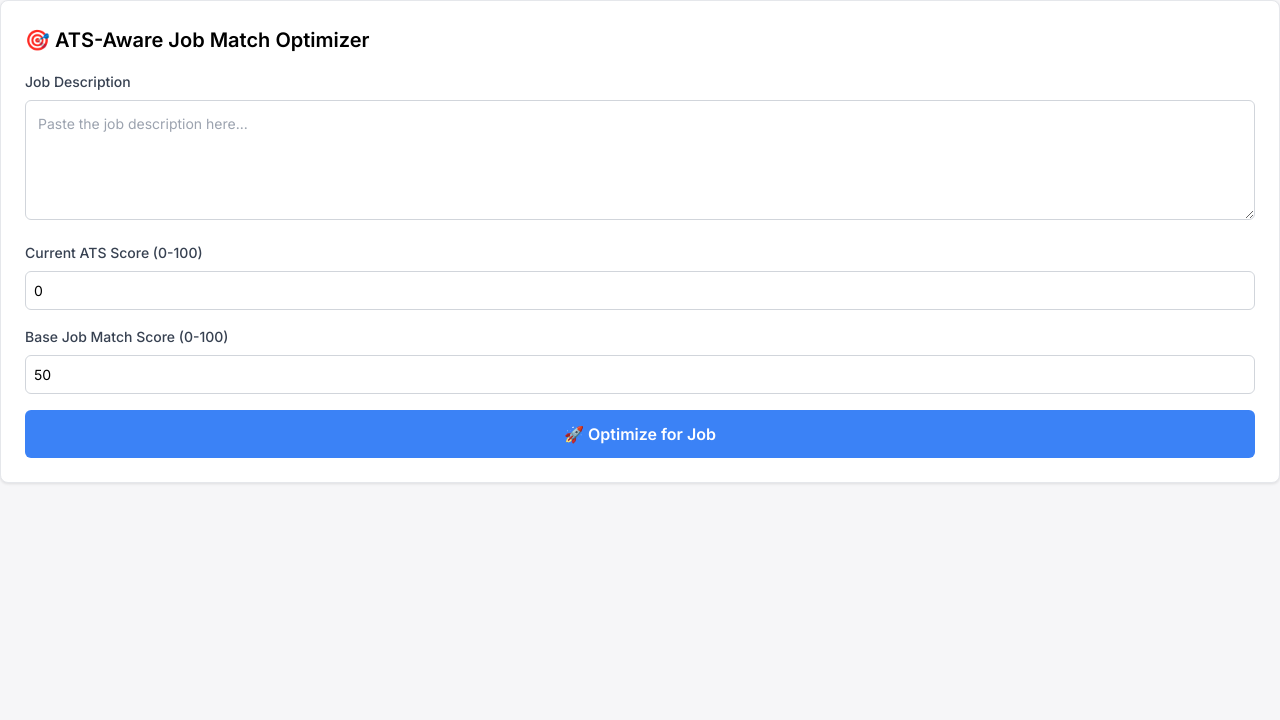
it: ATSOptimizerCard › should show error when trying to optimize without job description
The image size is (1280, 720).
Note: Click the button
What coordinates should you click on to do the following:
click the button "🚀 Optimize for Job"
I would click on:
 (640, 434)
Its box is x1=25 y1=410 x2=1255 y2=458.
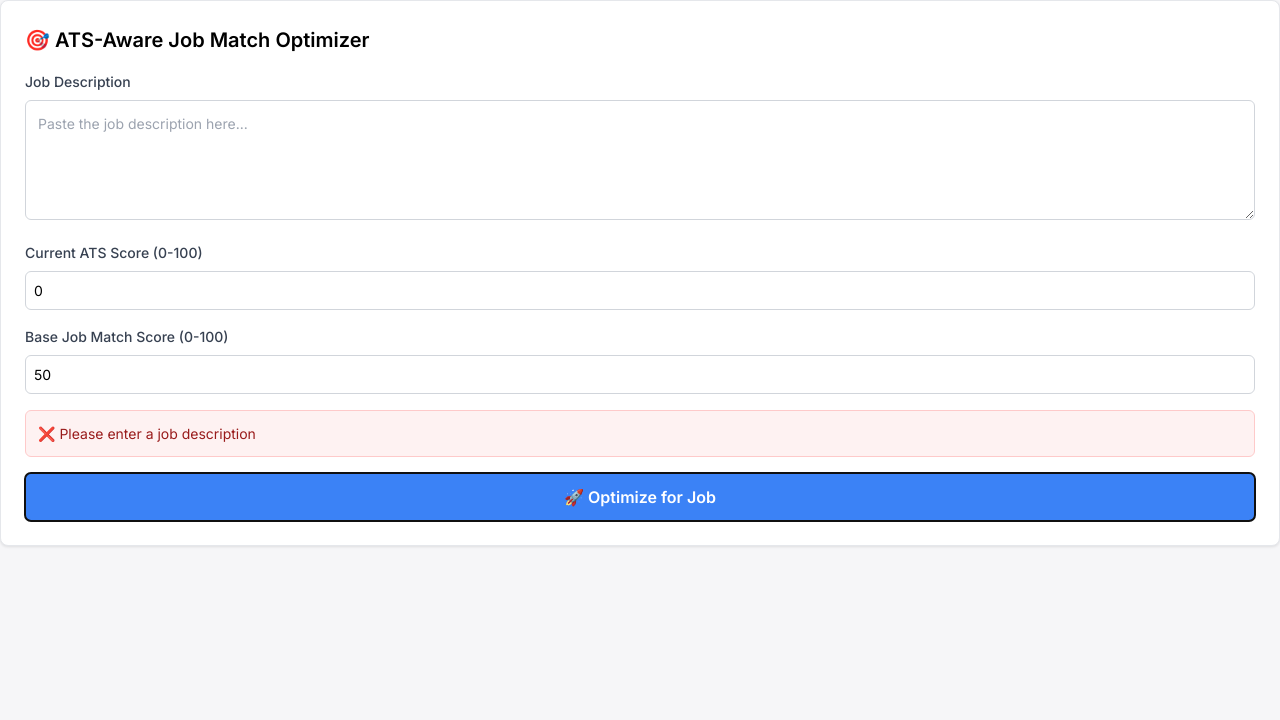
Now the text "❌ Please enter a job description" is shown, box x1=38 y1=425 x2=256 y2=442
